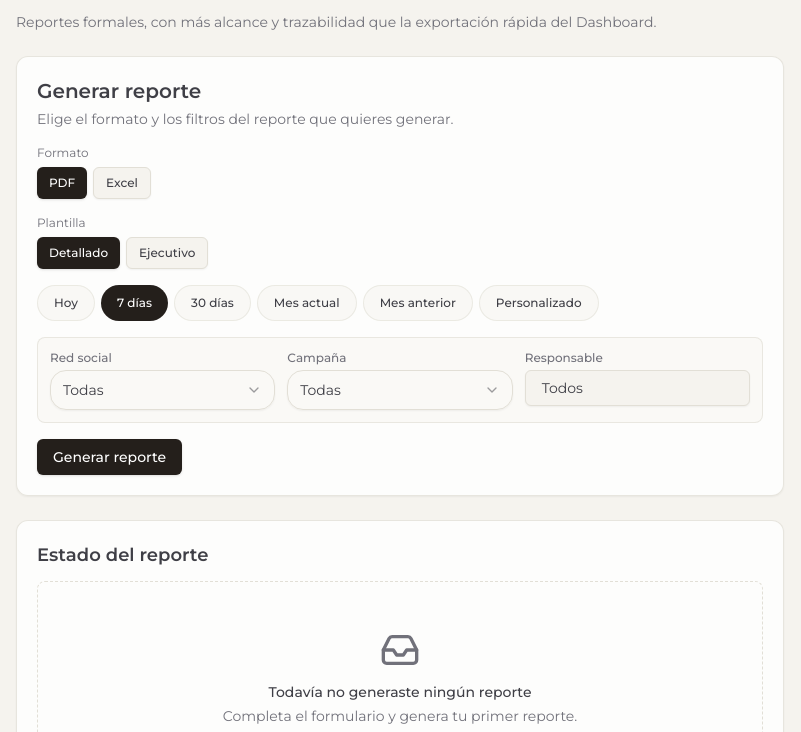
ReportesPage — generar reporte › mientras la solicitud está en curso, el botón queda deshabilitado
The image size is (801, 732).
Check: the text "Todavía no generaste ningún reporte" is shown, box [268,683,531,701]
Click the button "Generar reporte" at [110, 457], box [37,439,182,475]
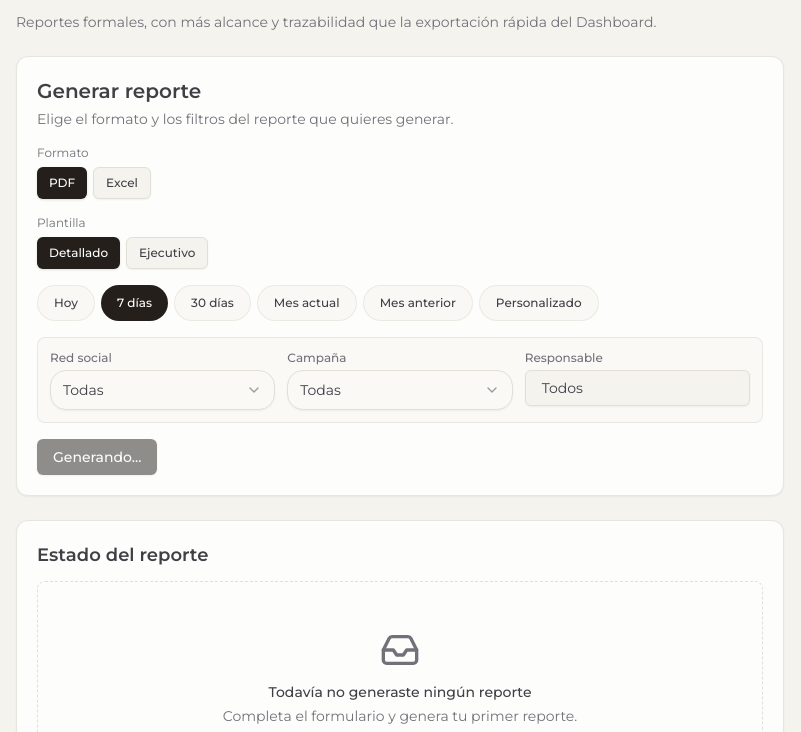
Check: the button "Generando…" is disabled, box [37,439,157,475]
